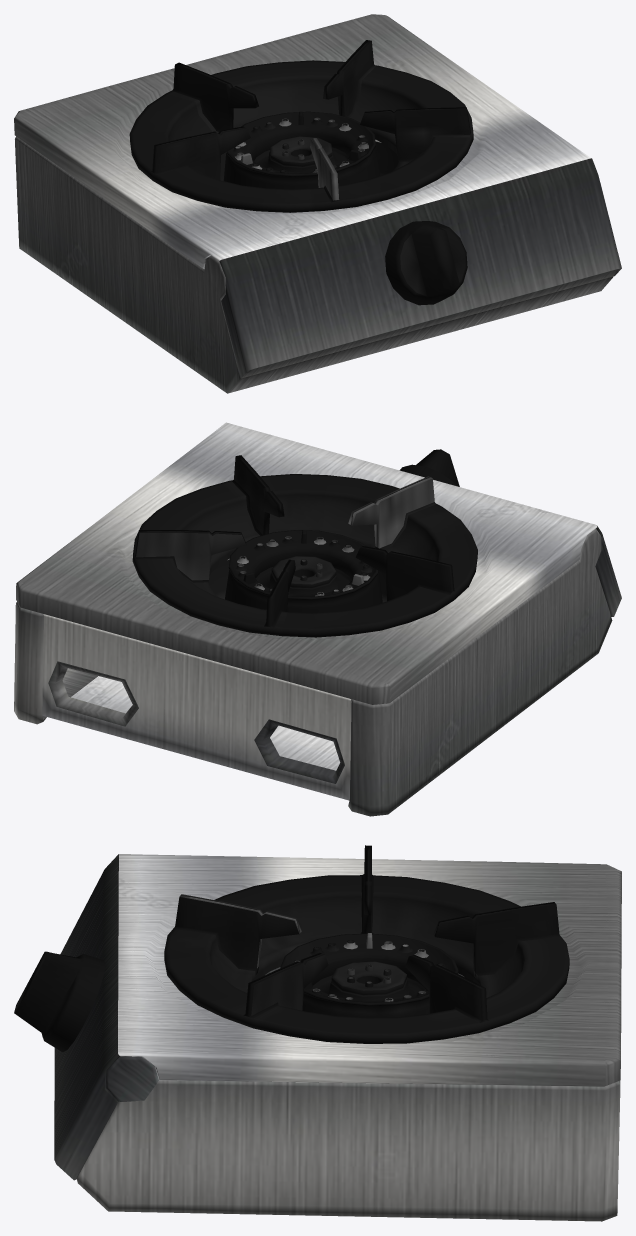
Rendered from kompor.glb.
3 renders of one model, top to bottom at view 1: azimuth 30°, elevation 25°; view 2: azimuth 150°, elevation 25°; view 3: azimuth 270°, elevation 25°, orthographic. The views are drawn at different scales.
Parts seen in each view (by area): view 1: TopPlate_Lp, Circle_Lp, SidePlate_Lp, Burner_Lp__0, Knob_Lp; view 2: TopPlate_Lp, Circle_Lp, SidePlate_Lp, BackPlate_Lp__0, Burner_Lp__0, Knob_Lp; view 3: SidePlate_Lp, TopPlate_Lp, Circle_Lp, Burner_Lp__0, Knob_Lp.
Part boxes in pixels (x1,y1,x2,y2): TopPlate_Lp: (14,14,621,378); Circle_Lp: (129,40,473,212); SidePlate_Lp: (15,136,612,393); Burner_Lp__0: (220,111,398,189); Knob_Lp: (385,221,467,305); TopPlate_Lp: (16,422,621,704); Circle_Lp: (132,455,477,637); SidePlate_Lp: (14,528,612,816); BackPlate_Lp__0: (42,614,351,800); Burner_Lp__0: (208,530,386,612); Knob_Lp: (399,449,459,486); SidePlate_Lp: (77,967,620,1221); TopPlate_Lp: (54,854,621,1180); Circle_Lp: (164,845,569,1043); Burner_Lp__0: (280,933,458,1017); Knob_Lp: (14,951,105,1052).
Size of the model in its own units: 3.01 by 1.34 by 3.55.
Materials: 6 (6 with a texture image).
